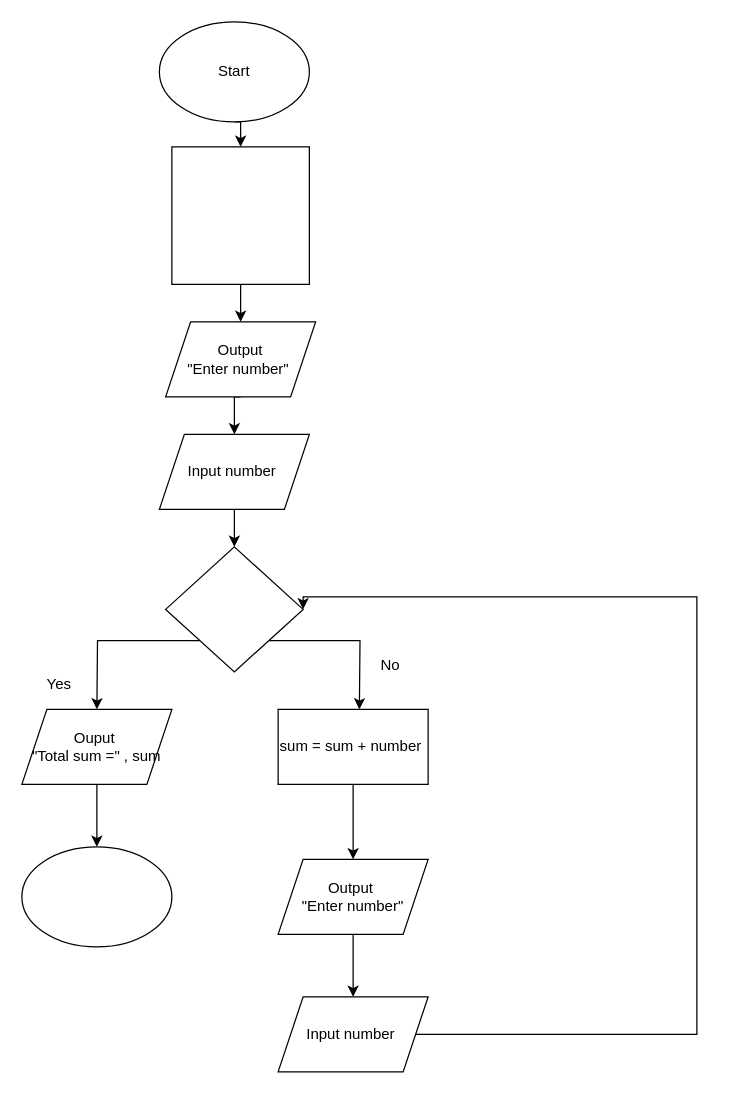
Some shapes in this 729 by 1094 pixel diagram are drawn without their labels. Here are the shapes that lost their labels. From the top down, the centre of each, then its label:
(x=240, y=215): Declarations number sum = 0
(x=233, y=609): number = 0 ?
(x=96, y=896): Stop
